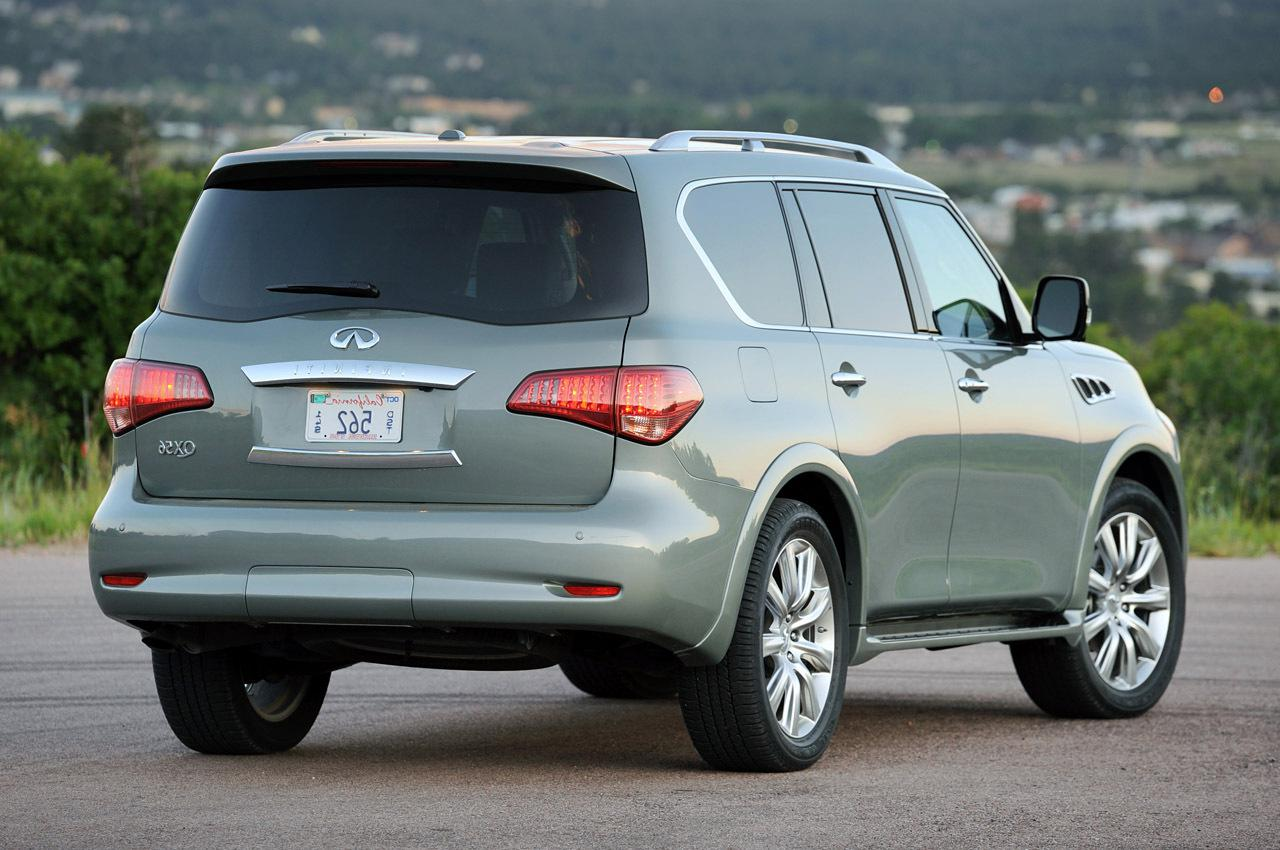Car: (66, 86, 1225, 806)
